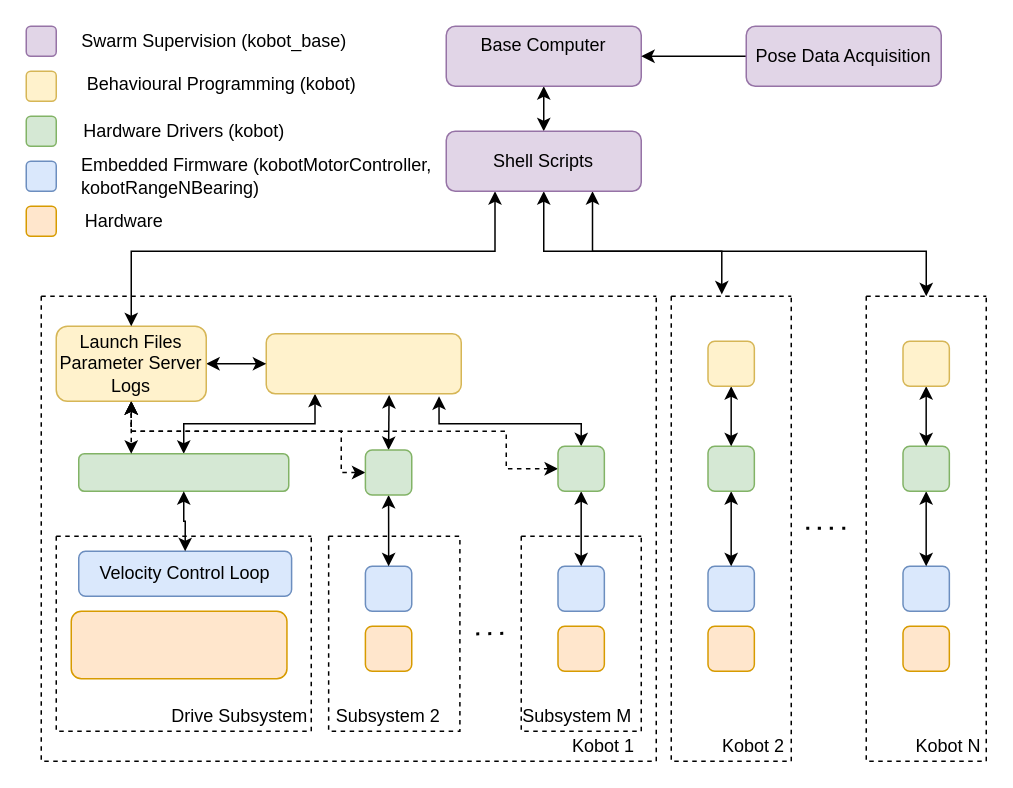
Image size: 1013x788. Some labels were removed from this diagram. The box of each missing label's shape, as (x1, y1, x2, y2) in pixels:
Arduino, Motor, Motor Driver and Encoder: (70, 610, 287, 679)
differential_driver: (77, 452, 289, 491)
flocking: (265, 332, 461, 394)
